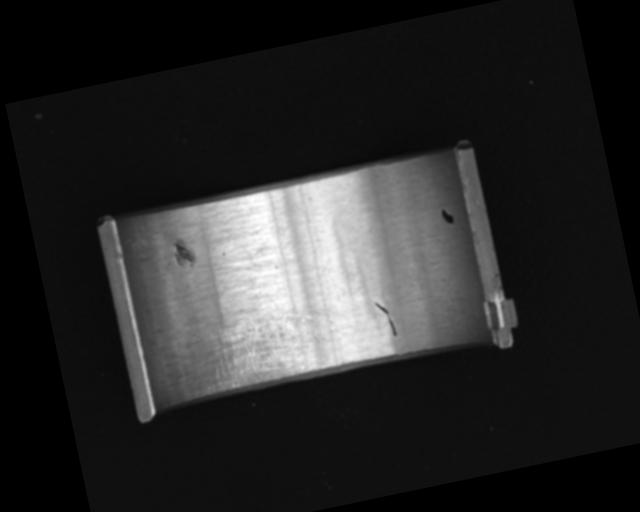blot: (440, 206, 456, 227)
bruise: (170, 237, 198, 271)
nick: (374, 299, 398, 340)
scratch: (193, 297, 337, 394)
